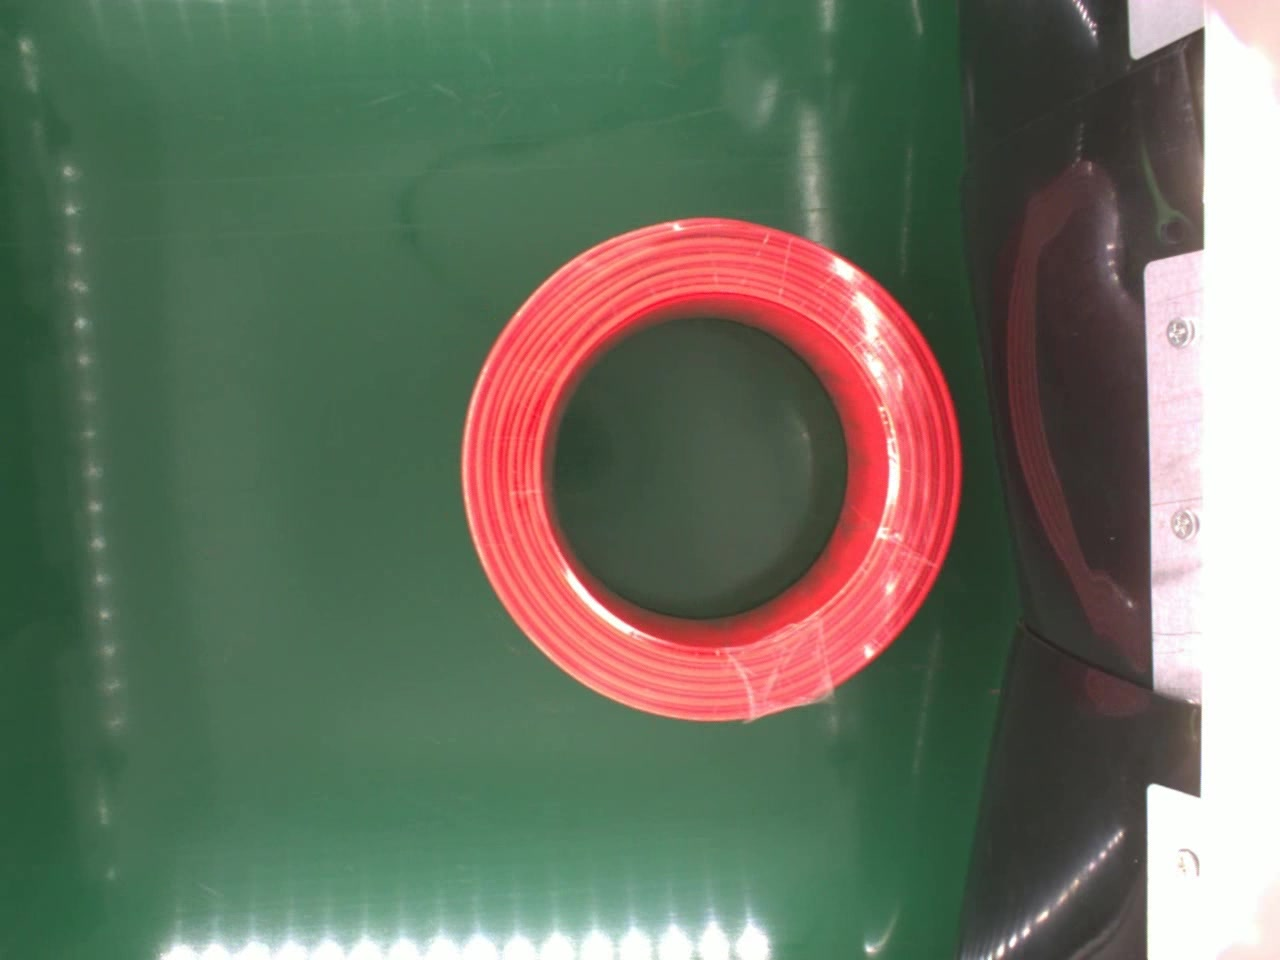red: (456, 215, 962, 723)
